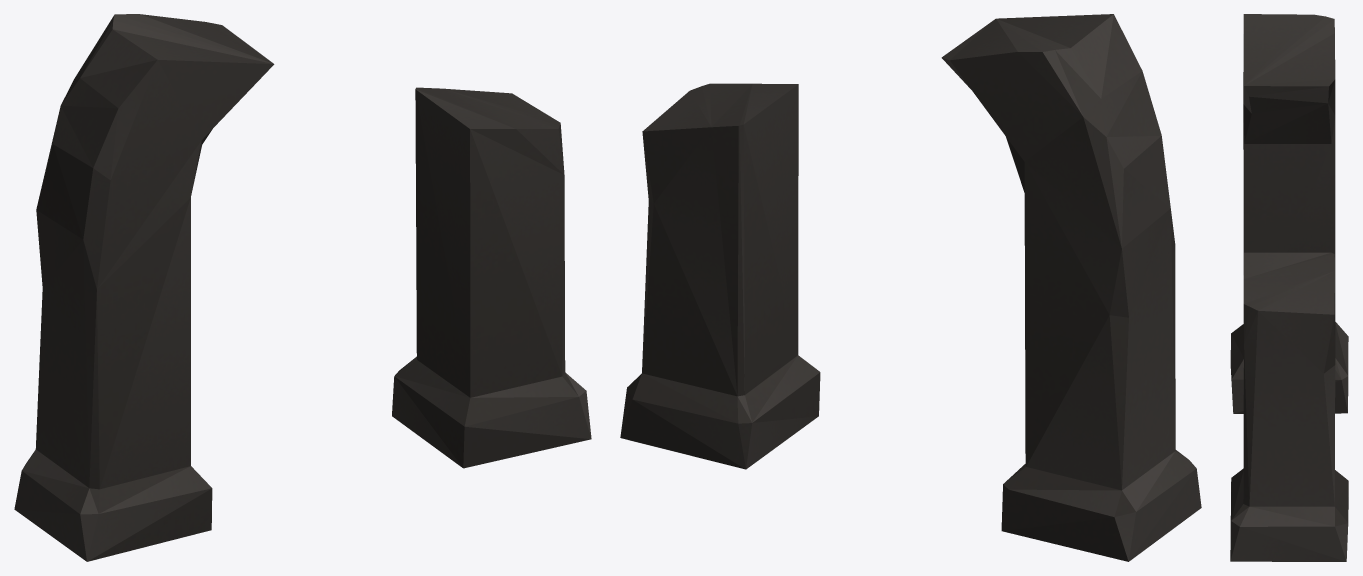
The model's file is Arc_1B.fbx.
3 views of the same model, side by side, from view 1: azimuth 30°, elevation 25°; view 2: azimuth 150°, elevation 25°; view 3: azimuth 270°, elevation 25° (orthographic). The views are drawn at different scales.
Parts seen in each view (by area): view 1: Group65516; view 2: Group65516; view 3: Group65516.
Boxes of the visible parts, x1=… form: Group65516: x1=14, y1=14, x2=591, y2=561; Group65516: x1=620, y1=14, x2=1201, y2=561; Group65516: x1=1230, y1=14, x2=1348, y2=561.
Size of the model in its own units: 516 by 465 by 130.
Materials: 1 (1 with a texture image).
